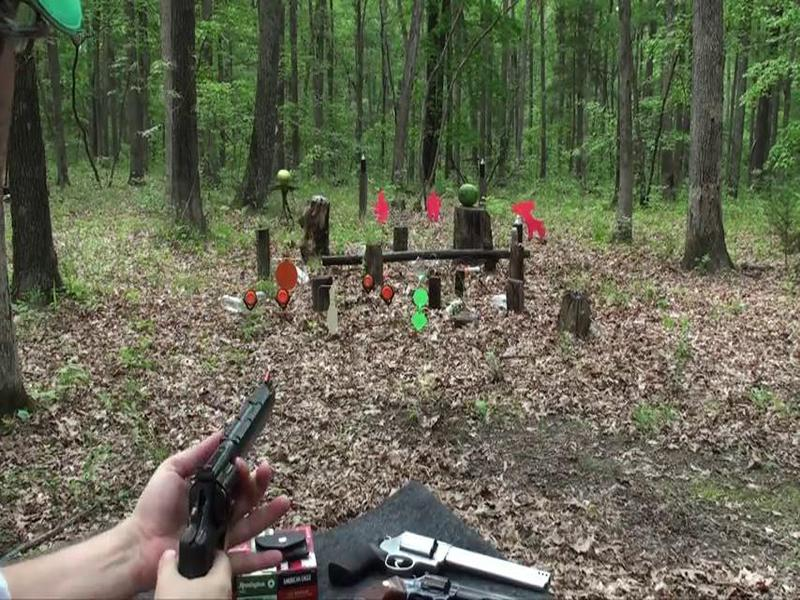Revolver: (158, 372, 303, 581)
